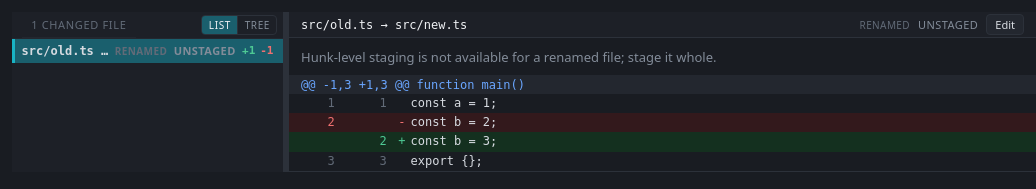
Scenario: DiffView editing › edits a renamed file at the path it now has
The image size is (1036, 189).
Click the button "Edit".
click(1005, 24)  # box [986,14,1024,35]
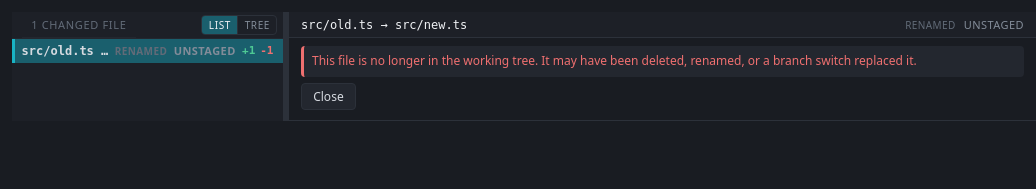
expect the text "Opening src/new.ts" is shown: met, box [301,46,1024,77]
